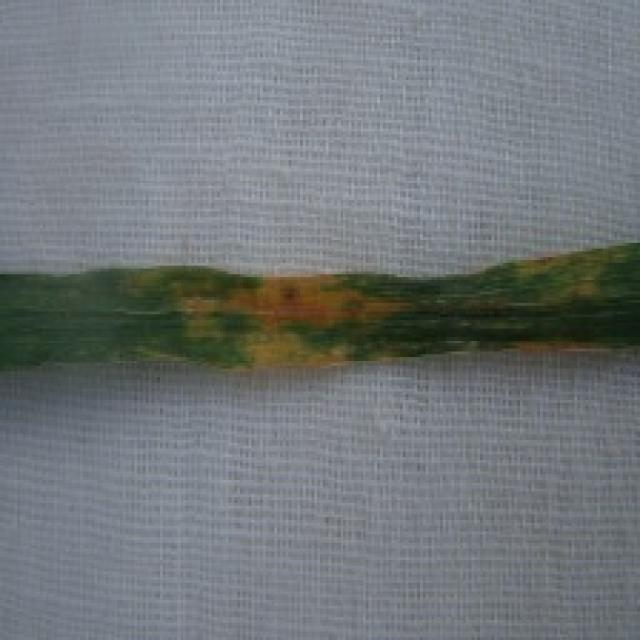Bacterial_Blight: (189, 263, 408, 325), (223, 330, 363, 410), (482, 237, 638, 302), (503, 327, 636, 373)
